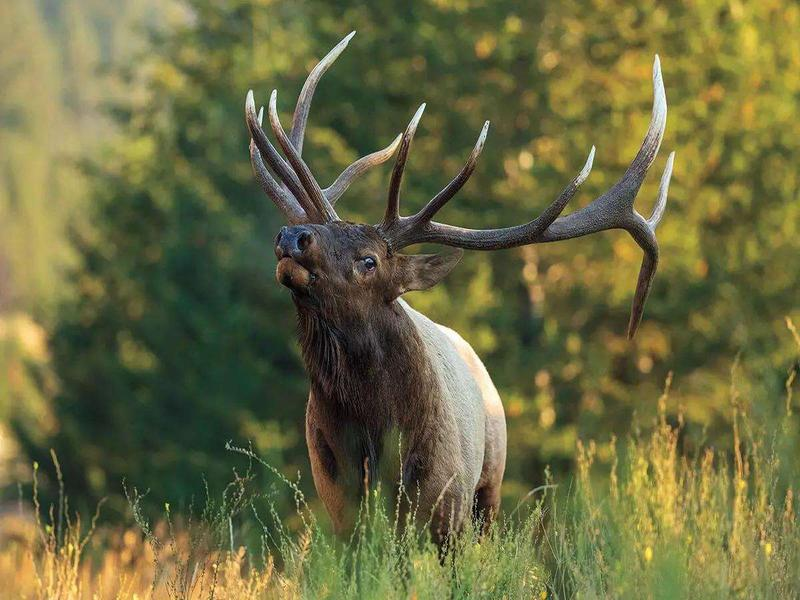elk: (247, 123, 573, 552)
